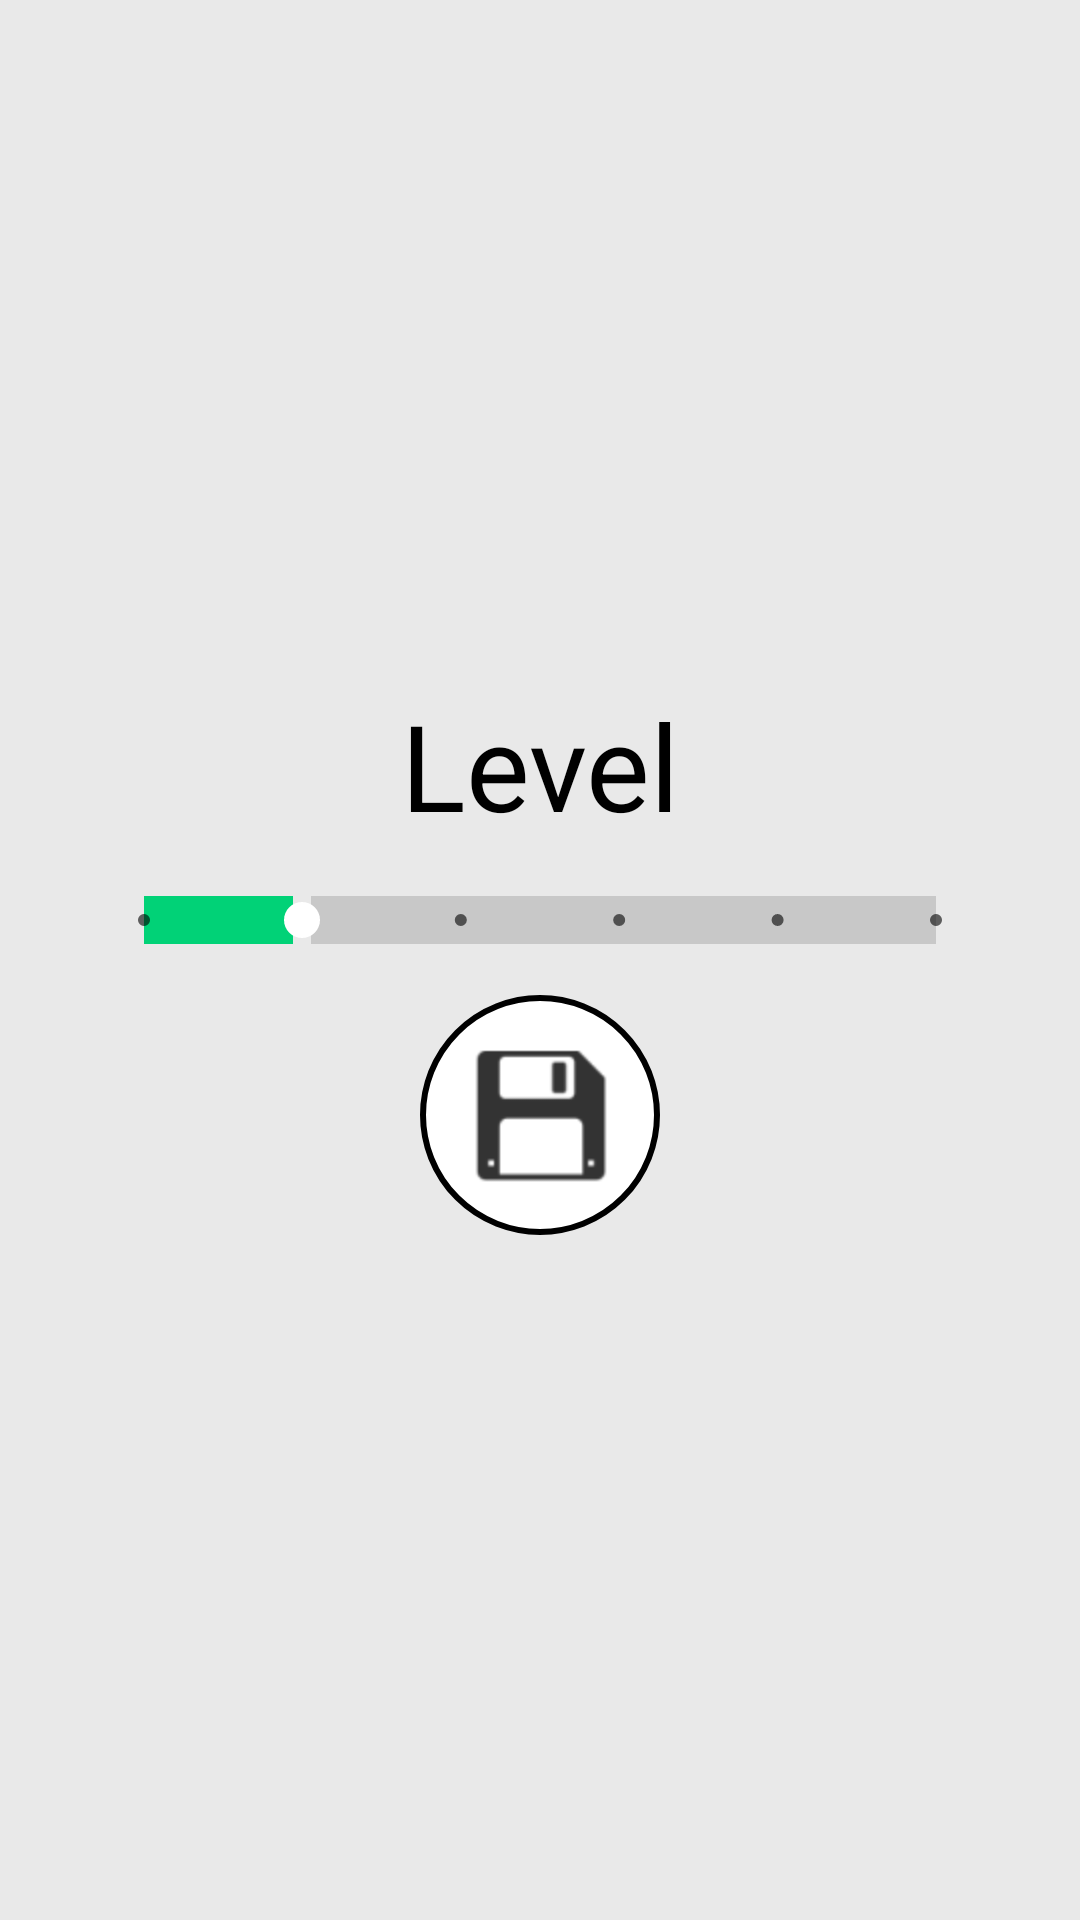

Named icons in this screenshot (1080x1920) and their bounding boxes, rect(x1, y1, x2, y2):
Save changes: rect(420, 995, 660, 1235)
